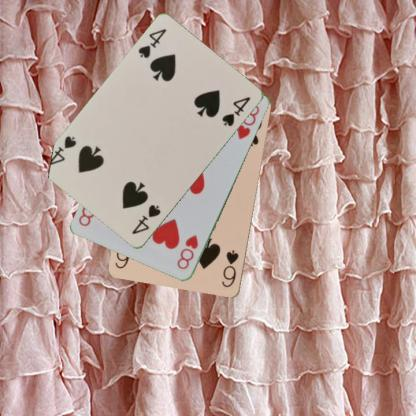4s: (129, 202, 162, 236), (135, 26, 168, 60)
6s: (220, 247, 240, 289)
8h: (174, 232, 200, 271)
